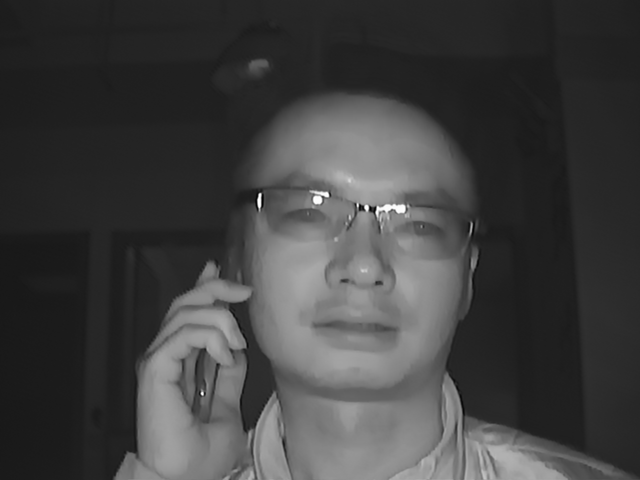hand: (129, 259, 252, 466)
